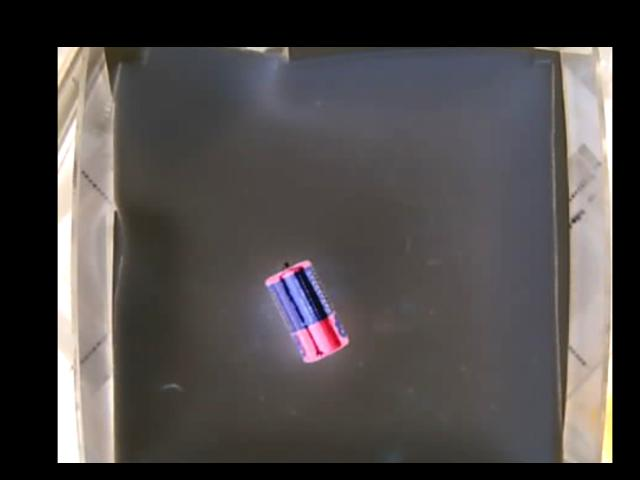Battery: (264, 258, 350, 362)
